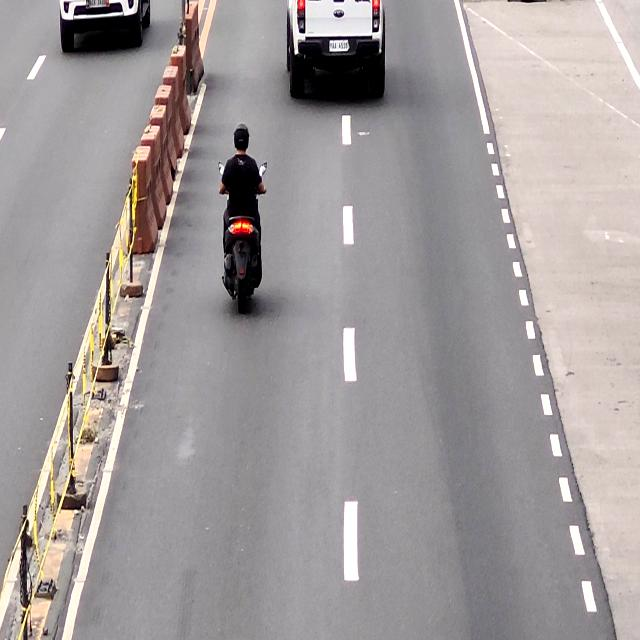Car: (286, 0, 387, 101)
License-Plate: (329, 39, 349, 53)
Motorcycle: (220, 161, 266, 313)
